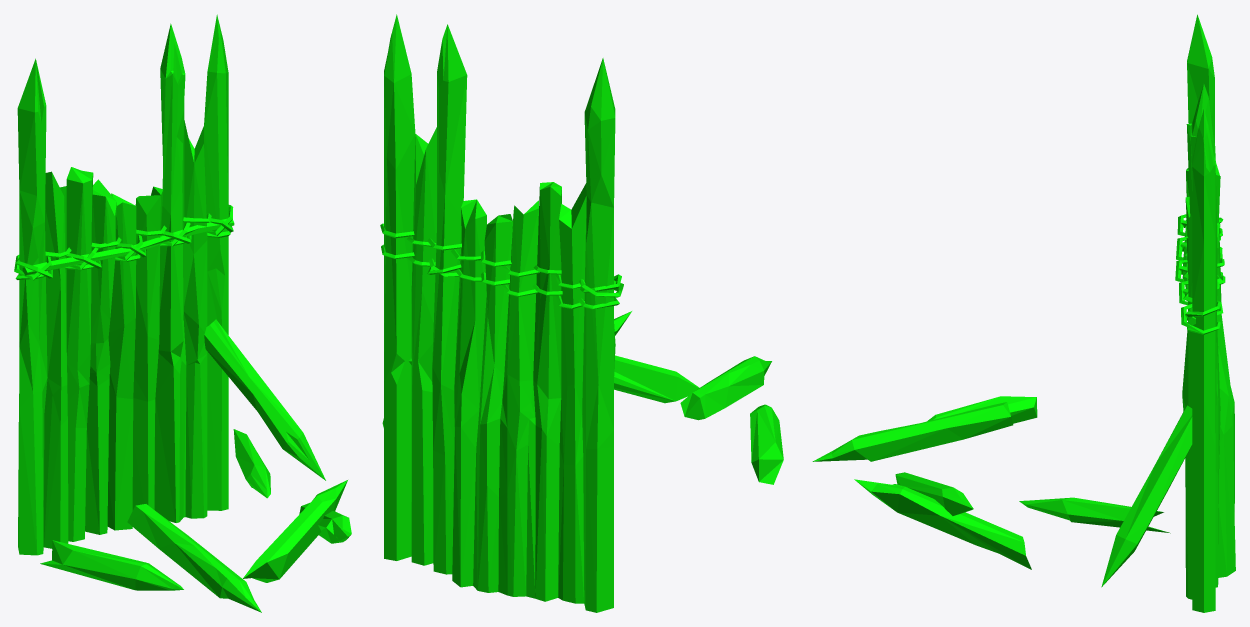
The model's file is SM_Palisade_3m_Broken_B.fbx.
3 views of the same model, side by side, from view 1: azimuth 30°, elevation 25°; view 2: azimuth 150°, elevation 25°; view 3: azimuth 270°, elevation 25° (orthographic). The views are drawn at different scales.
Parts seen in each view (by area): view 1: palisade-3m-broken-b; view 2: palisade-3m-broken-b; view 3: palisade-3m-broken-b.
Part boxes in pixels (box(x1,y1,x2,y2)): palisade-3m-broken-b: box(14, 14, 351, 612); palisade-3m-broken-b: box(380, 14, 783, 612); palisade-3m-broken-b: box(812, 14, 1235, 612).
Size of the model in its own units: 4.57 by 6.8 by 5.2.
